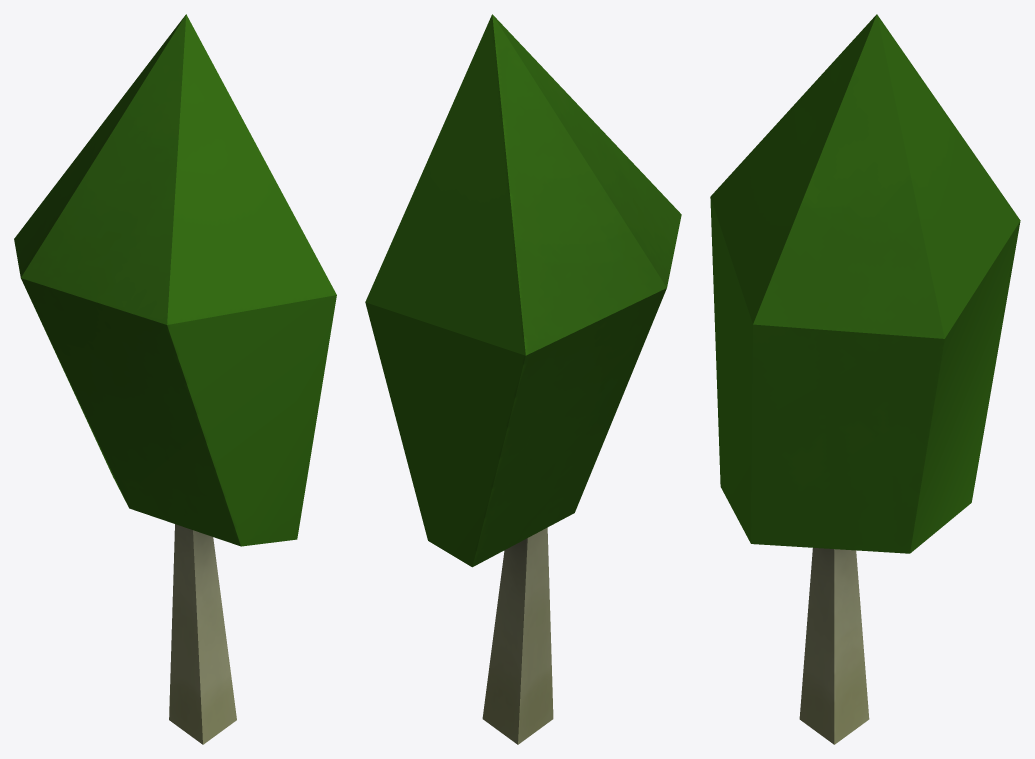
The model's file is Leave_tree_C1_03.FBX.
3 renders of one model, left to right at view 1: azimuth 30°, elevation 25°; view 2: azimuth 150°, elevation 25°; view 3: azimuth 270°, elevation 25°, orthographic. The views are drawn at different scales.
Visible parts, largest first — view 1: Leave_tree_C1_03; view 2: Leave_tree_C1_03; view 3: Leave_tree_C1_03.
Boxes of the visible parts, x1,y1,x2,y2 form: Leave_tree_C1_03: (14,14,336,744); Leave_tree_C1_03: (365,14,681,744); Leave_tree_C1_03: (710,14,1020,744).
Size of the model in its own units: 14.47 by 14.76 by 37.59.
